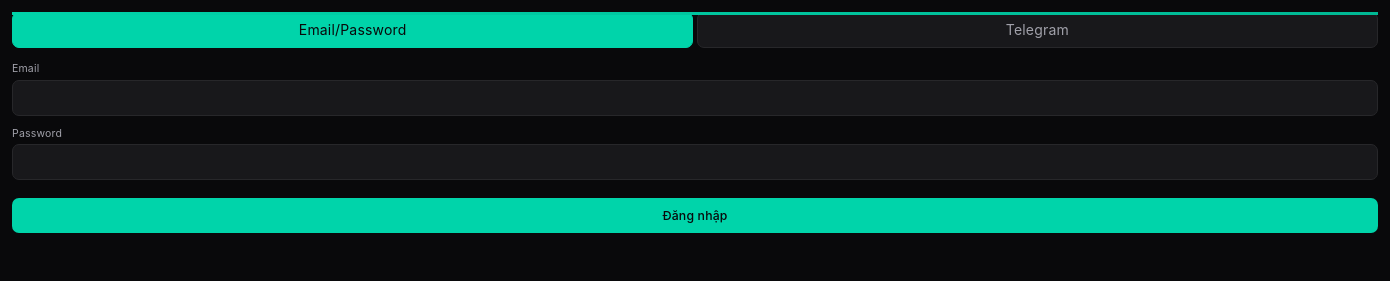
Test: LoginForm › shows a neutral error message when login fails, regardless of backend reason
The image size is (1390, 281).
Type "user@example.com" into the field labelled "Email" at (695,98), box [12,80,1378,116]
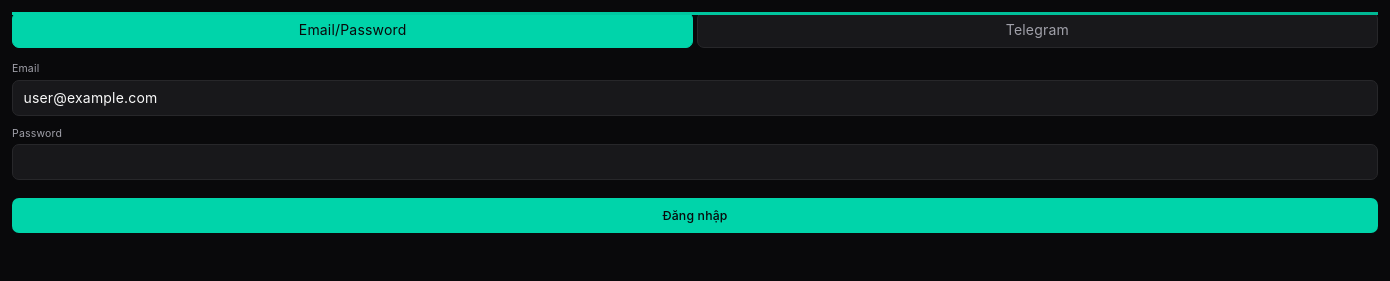
Type "wrong-password" into the password field labelled "Password" at (695,162), box [12,144,1378,180]
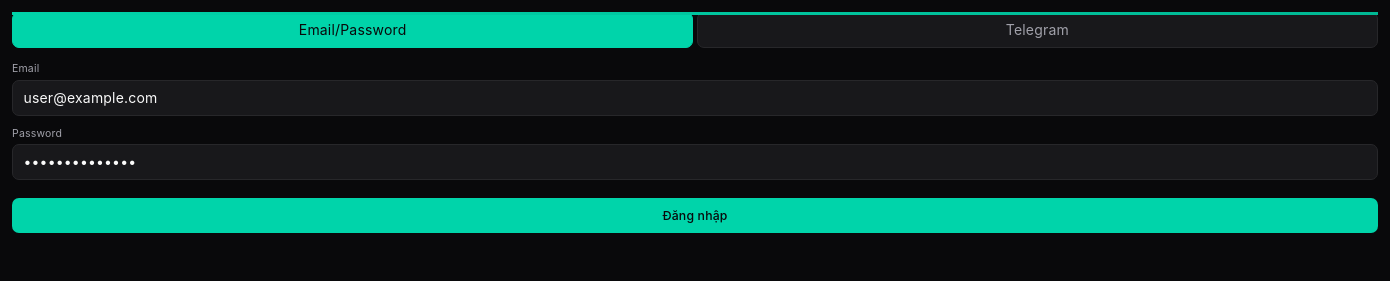
Click the button "Đăng nhập" at (695,215), box [12,198,1378,233]
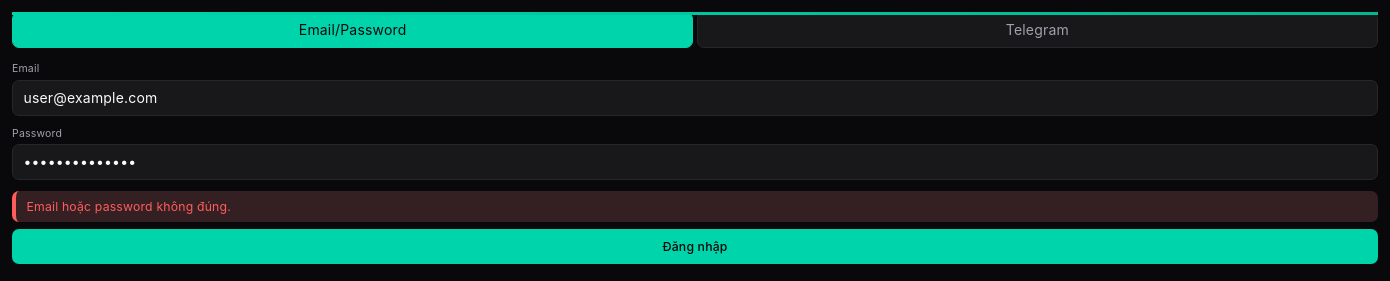
Expected: the message does not show "locked", [12,191,1378,222]
Now the message reads "Email hoặc password không đúng.", box [26,199,231,214]
